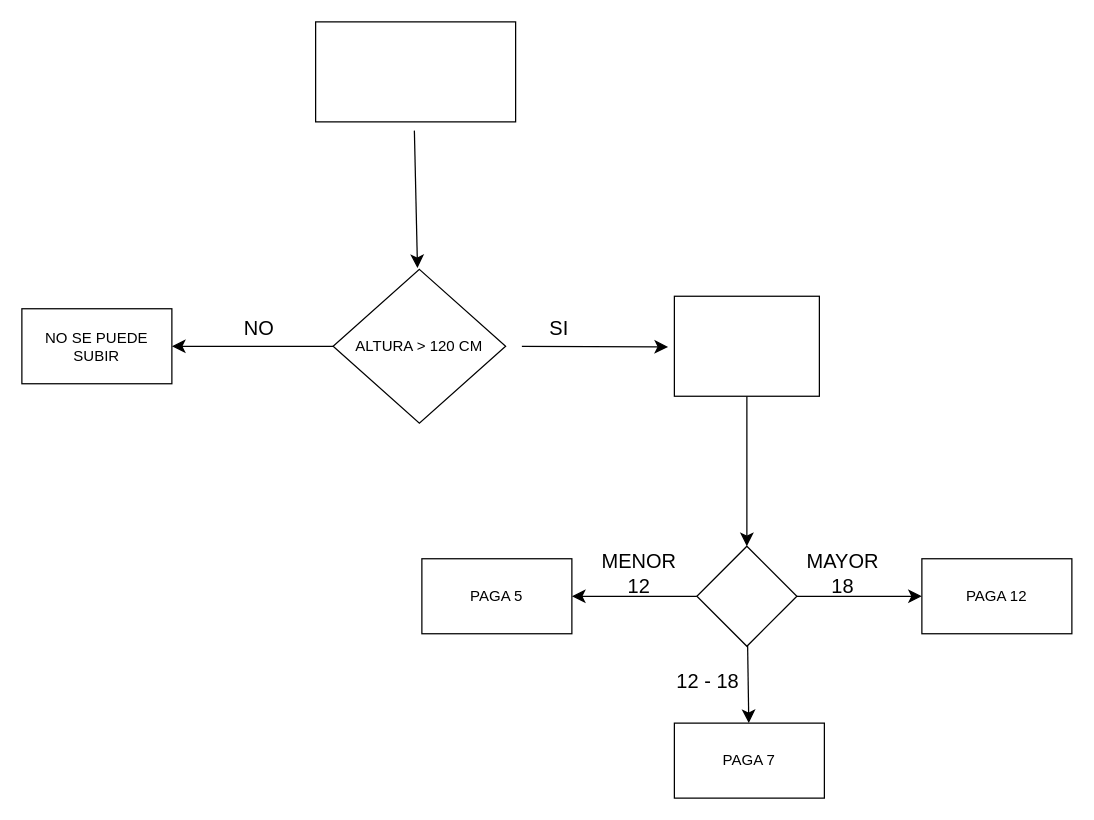
The diagram is 1094 pixels wide and 820 high, and some of its shapes have lost their labels. Each missing label, with the centre of its shape:
EDAD: the point at 746,595
INICIO: the point at 415,71
SI SE PUEDE SUBIR: the point at 746,345
